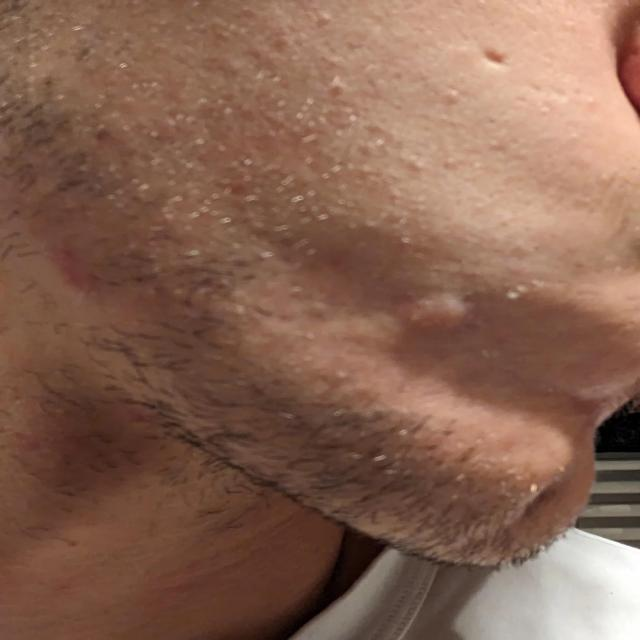nodule: (399, 290, 468, 334)
